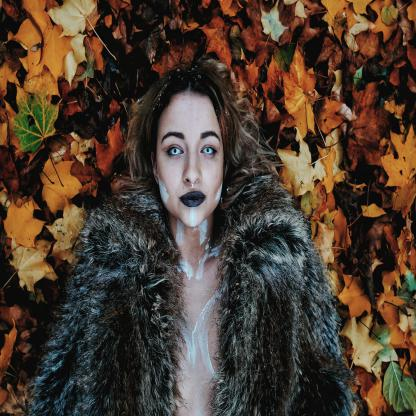Eye: (197, 142, 219, 160), (164, 143, 186, 160)
Mouth: (177, 186, 208, 211)
Nose: (183, 146, 202, 186)
